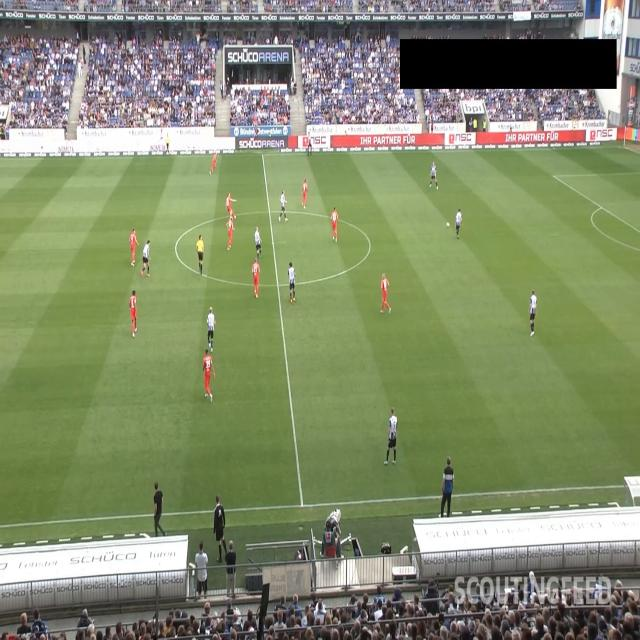ball: (446, 221, 450, 228)
